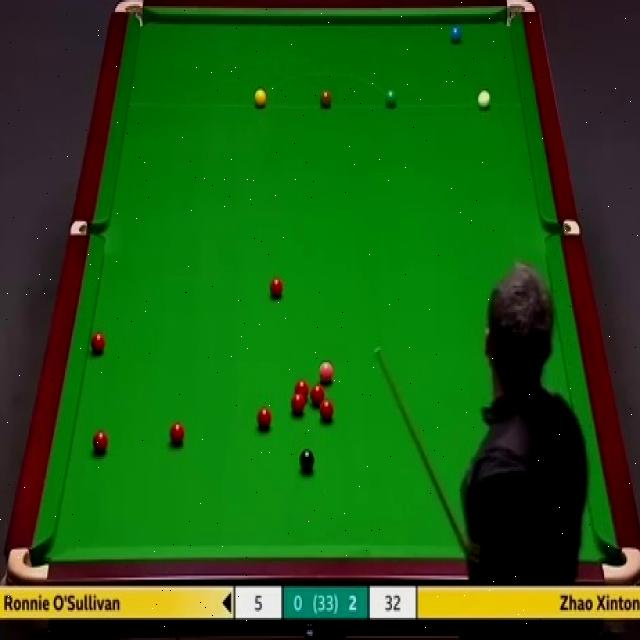black-ball: (300, 450, 314, 473)
blue-ball: (450, 25, 464, 42)
brown-ball: (320, 89, 333, 108)
green-ball: (384, 88, 398, 110)
pink-ball: (318, 360, 334, 384)
red-ball: (256, 406, 272, 432), (90, 330, 106, 355), (169, 422, 185, 446), (268, 277, 284, 300), (319, 397, 334, 421), (92, 430, 109, 451), (312, 381, 328, 403), (295, 378, 309, 402), (291, 393, 305, 415)
white-ball: (477, 90, 491, 108)
yellow-ball: (252, 88, 268, 108)
